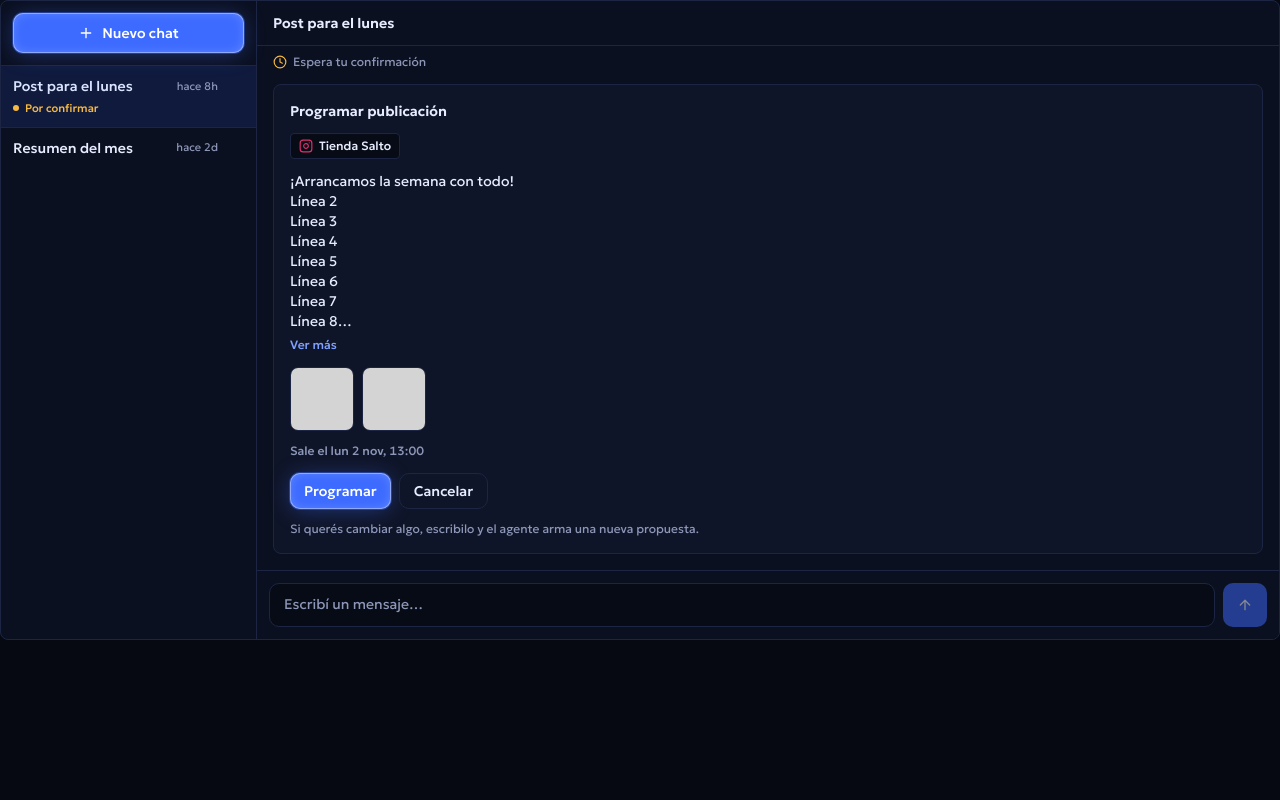
it: Agente — errores del backend (503, 502, 409, 422) y sugerencias › ante un 409 al confirmar vuelve a pedir el chat y conserva el mensaje de error visible
The width and height of the screenshot is (1280, 800).
(page scrolled)
Click the button "Programar". click: click(340, 490)
box: [290, 472, 391, 508]
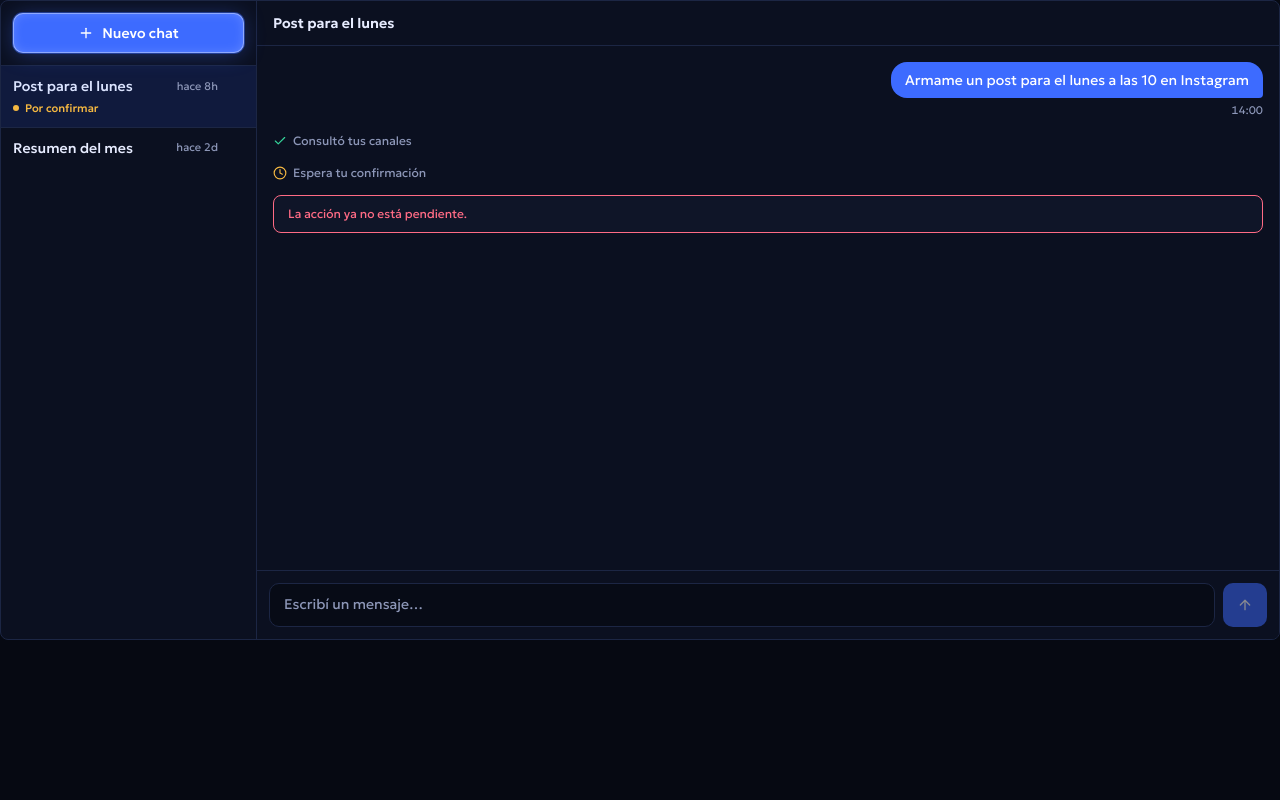
Result: the element with test id "agent-pending-action-card" is gone
Result: the message reads "La acción ya no está pendiente." at [288, 206, 467, 220]
